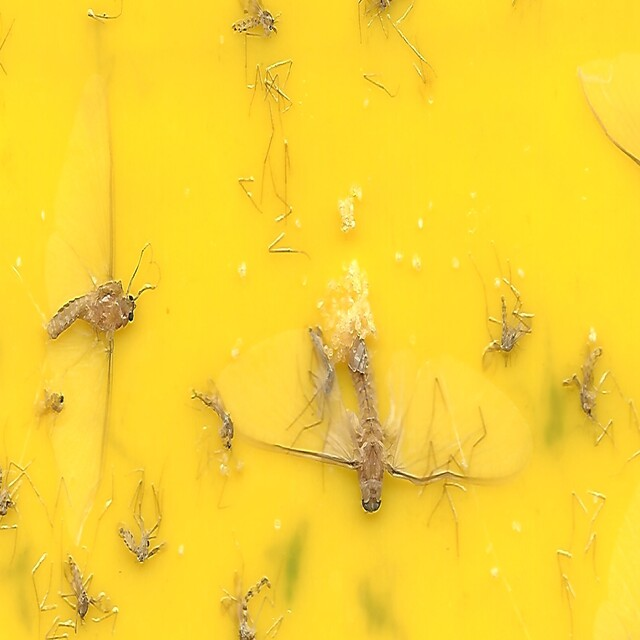Ephemeroptera: (232, 319, 524, 501), (42, 71, 138, 515)
Nematocera: (481, 277, 530, 375), (118, 497, 166, 569), (564, 342, 604, 426), (189, 384, 235, 456), (36, 379, 66, 421)
